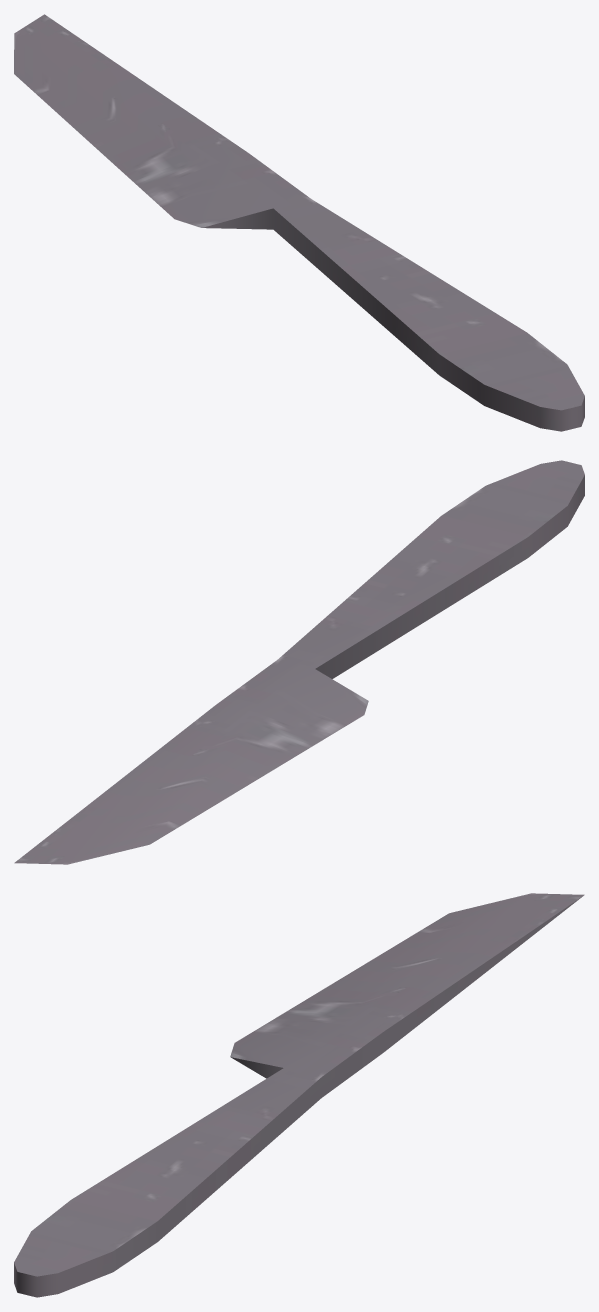
File: Table_Knife.glb
3 renders of one model, top to bottom at view 1: azimuth 30°, elevation 25°; view 2: azimuth 150°, elevation 25°; view 3: azimuth 330°, elevation 25°, orthographic.
Parts seen in each view (by area): view 1: Table_Knife; view 2: Table_Knife; view 3: Table_Knife.
Part boxes in pixels (x1=…): Table_Knife: x1=14, y1=14, x2=584, y2=431; Table_Knife: x1=14, y1=460, x2=584, y2=864; Table_Knife: x1=14, y1=893, x2=584, y2=1297.
Bounding box in the file's own units: 0.0417 × 0.00616 × 0.2866.
1 material, 1 textured.
